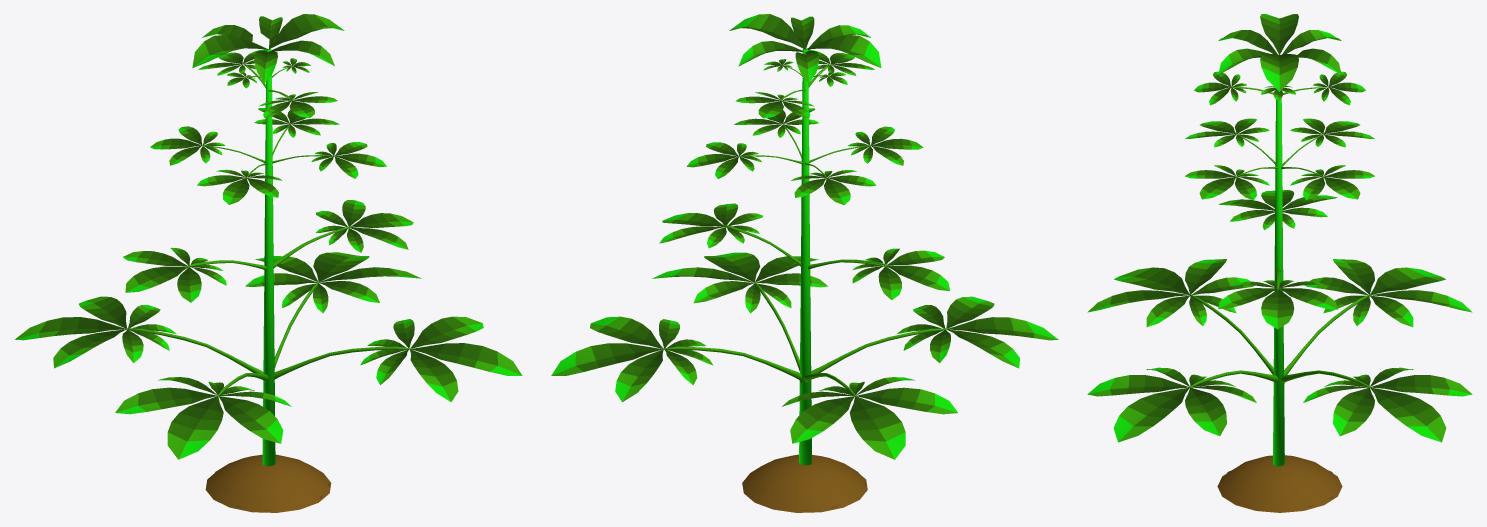
Rendered from Cannibis flower still.fbx.
The picture shows the model from 3 angles, left to right: view 1: azimuth 30°, elevation 25°; view 2: azimuth 150°, elevation 25°; view 3: azimuth 270°, elevation 25°; orthographic projection.
Visible parts, largest first — view 1: Top_Leaf_Leaf_model.002_Plane.002, Leaf model.001, Soil, Top Leaf, Stem; view 2: Leaf model.001, Top_Leaf_Leaf_model.002_Plane.002, Soil, Top Leaf, Stem; view 3: Top_Leaf_Leaf_model.002_Plane.002, Leaf model.001, Soil, Top Leaf, Stem.
Boxes of the visible parts, left/top/right/bottom form: Top_Leaf_Leaf_model.002_Plane.002: left=15, top=28, right=483, bottom=496; Leaf model.001: left=22, top=49, right=522, bottom=459; Soil: left=205, top=454, right=331, bottom=512; Top Leaf: left=192, top=14, right=344, bottom=82; Stem: left=262, top=49, right=275, bottom=466; Leaf model.001: left=551, top=50, right=1058, bottom=452; Top_Leaf_Leaf_model.002_Plane.002: left=551, top=28, right=1011, bottom=510; Soil: left=742, top=454, right=867, bottom=512; Top Leaf: left=729, top=14, right=881, bottom=83; Stem: left=799, top=48, right=811, bottom=465; Top_Leaf_Leaf_model.002_Plane.002: left=1118, top=34, right=1472, bottom=510; Leaf model.001: left=1087, top=71, right=1471, bottom=442; Soil: left=1217, top=455, right=1341, bottom=512; Top Leaf: left=1218, top=14, right=1341, bottom=91; Stem: left=1273, top=54, right=1284, bottom=466.
Bounding box in the file's own units: 474 × 559 × 436.
